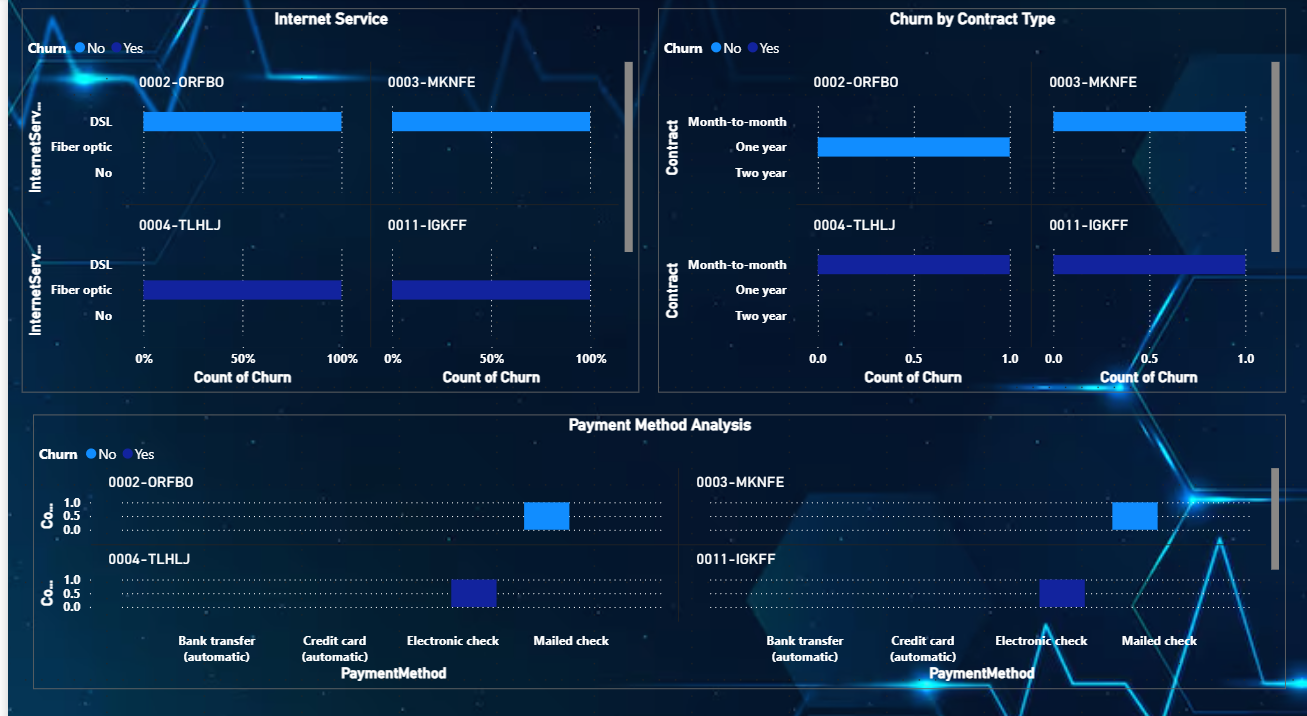

The page's visual inventory and layout, read from the dashboard file:
{"tool":"powerbi","page":{"name":"Churn Analysis","canvas":[1280,720],"ordinal":1},"visuals":[{"type":"barChart","title":"Churn by Contract Type","fields":{"Category":["CustomerChurn.Contract"],"Series":["CustomerChurn.Churn"],"Rows":["CustomerChurn.customerID"],"Y":["CountNonNull(CustomerChurn.Churn)"]},"box":[640,11.7,618.3,378.3],"z":0},{"type":"clusteredColumnChart","title":"Payment Method Analysis","fields":{"Category":["CustomerChurn.PaymentMethod"],"Series":["CustomerChurn.Churn"],"Rows":["CustomerChurn.customerID"],"Y":["CountNonNull(CustomerChurn.Churn)"]},"box":[25,411.7,1233.3,270],"z":1000},{"type":"hundredPercentStackedBarChart","title":"Internet Service","fields":{"Category":["CustomerChurn.InternetService"],"Series":["CustomerChurn.Churn"],"Rows":["CustomerChurn.customerID"],"Y":["CountNonNull(CustomerChurn.Churn)"]},"box":[13.3,11.7,608.3,378.3],"z":2000}]}

Visuals, with their boxes in screenshot pixels (x1, y1, x2, y2), scaled from the page's 1280x720 canvas onto the 1307x716 screenshot:
"Churn by Contract Type" barChart: [654,12,1285,388]
"Payment Method Analysis" clusteredColumnChart: [26,409,1285,678]
"Internet Service" hundredPercentStackedBarChart: [14,12,635,388]
